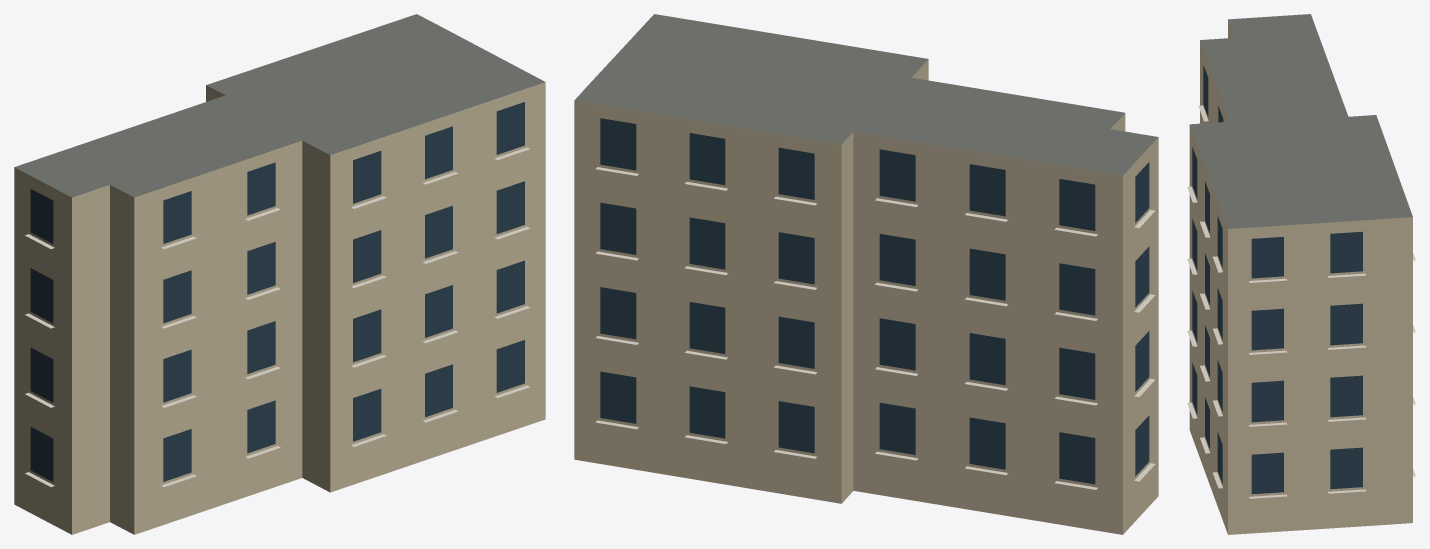
The picture shows the model from 3 angles, left to right: view 1: azimuth 30°, elevation 25°; view 2: azimuth 150°, elevation 25°; view 3: azimuth 270°, elevation 25°; orthographic projection. The views are drawn at different scales.
Parts seen in each view (by area): view 1: Footprint 0, Inferred window bays, Window sills; view 2: Footprint 0, Inferred window bays, Window sills; view 3: Footprint 0, Inferred window bays, Window sills.
Boxes of the visible parts, x1,y1,x2,y2 form: Footprint 0: (14, 14, 545, 534); Inferred window bays: (30, 102, 524, 481); Window sills: (25, 147, 529, 487); Footprint 0: (574, 14, 1158, 534); Inferred window bays: (600, 118, 1149, 484); Window sills: (595, 167, 1155, 489); Footprint 0: (1189, 14, 1412, 534); Inferred window bays: (1192, 65, 1362, 494); Window sills: (1187, 105, 1415, 498).
Bounding box in the file's own units: 19.43 × 12.75 × 8.64.
